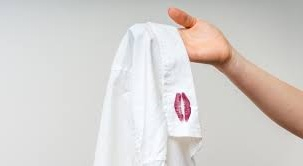lipstick: (174, 86, 191, 126)
